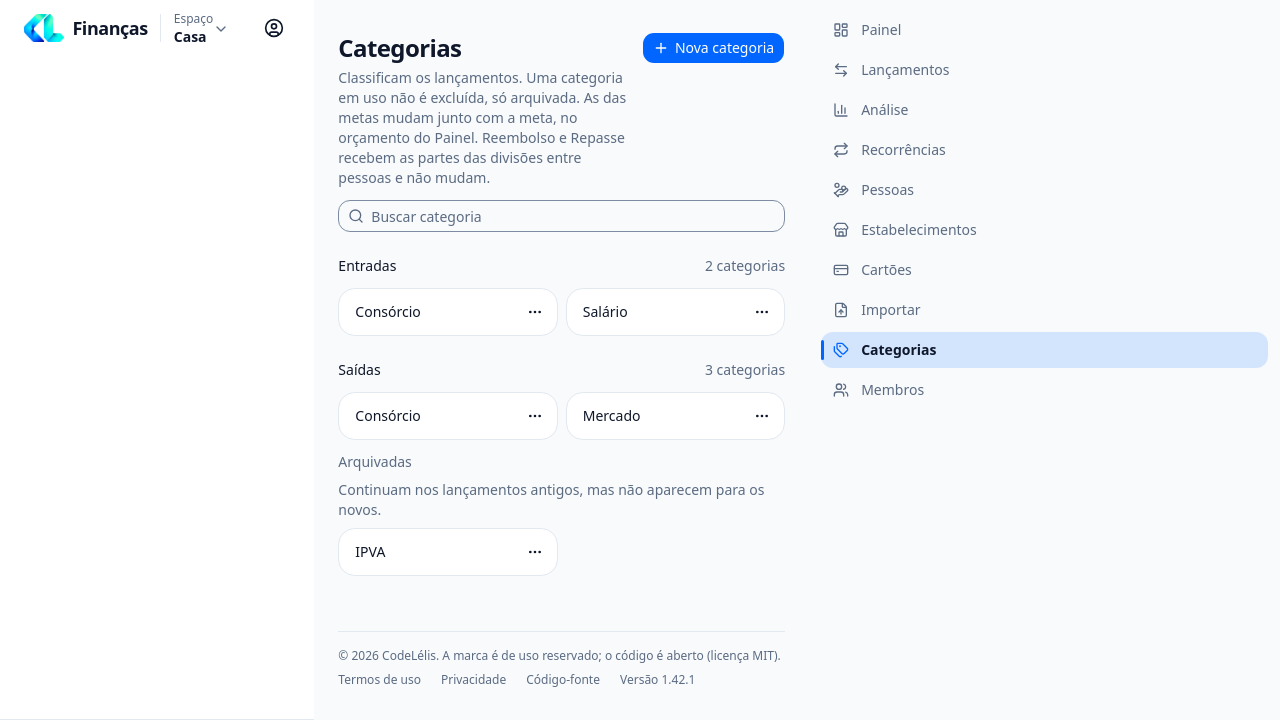
Test: CategoriesPage › renames a category
This screenshot has width=1280, height=720.
Step 1. Click the button named "Ações de Mercado" → click(762, 416), box 748,402 -> 776,430
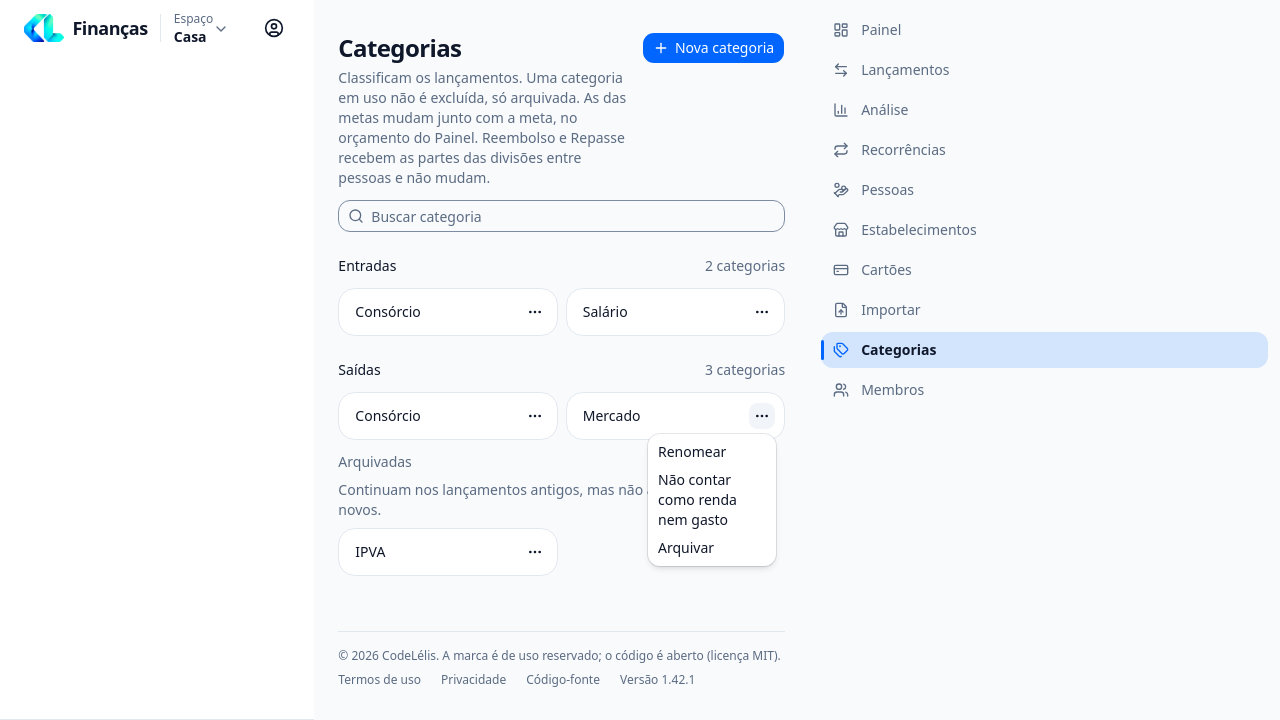
Step 2. Click the menu item "Renomear" → click(692, 452), box 658,442 -> 726,461
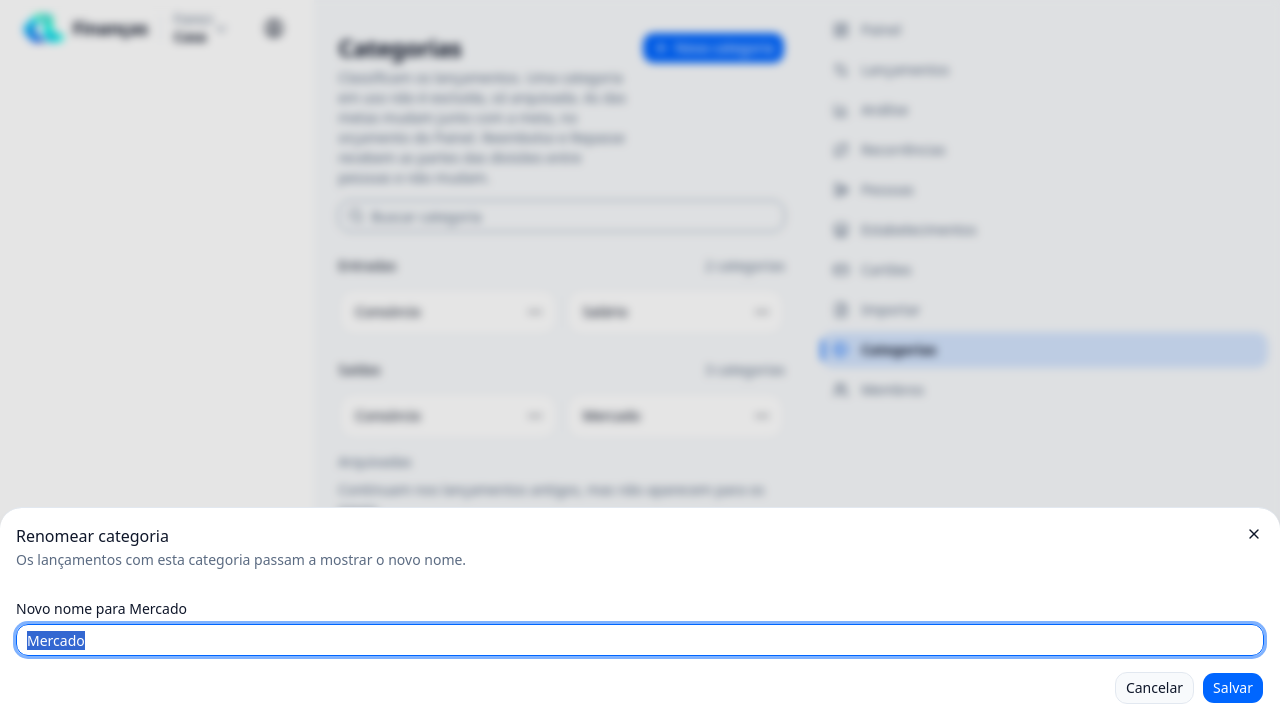
Expected: the field labelled "Novo nome para Mercado" holds "Mercado"
Step 3. Replace the text in the field labelled "Novo nome para Mercado" with "Supermercado" → (640, 640), box 16,624 -> 1264,656
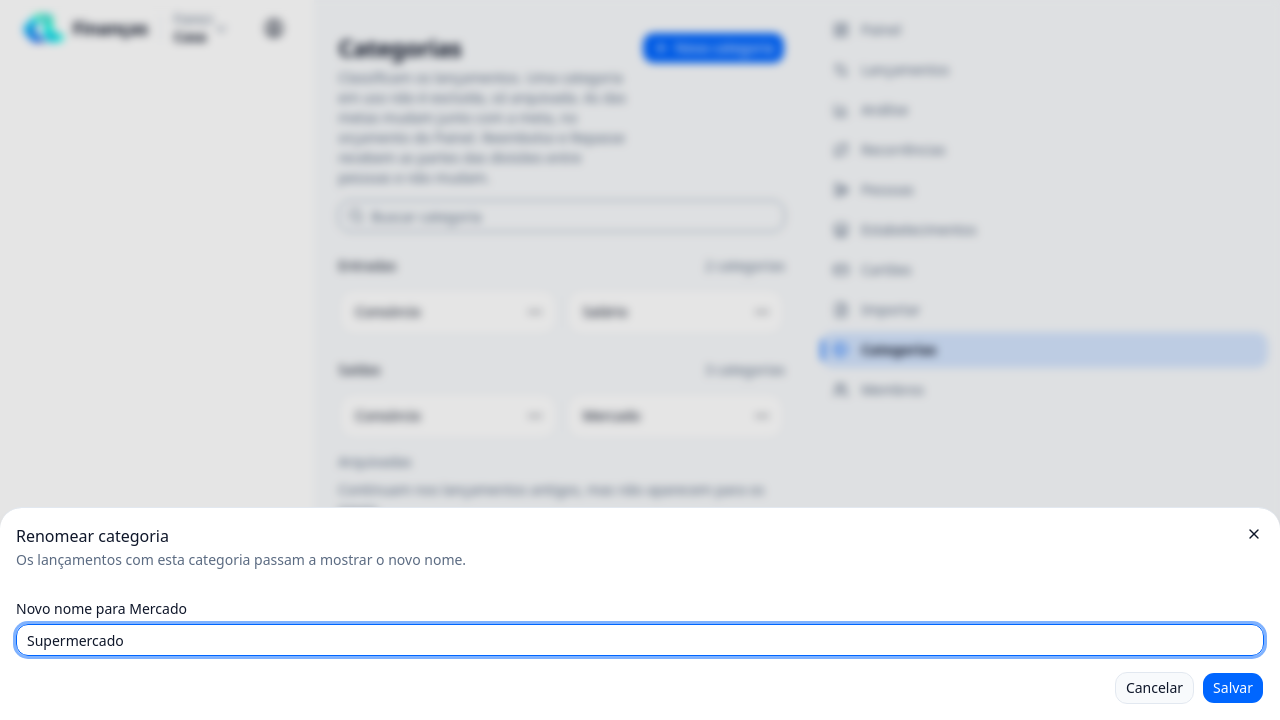
Step 4. Click the button "Salvar" → click(1233, 688), box 1202,672 -> 1264,704
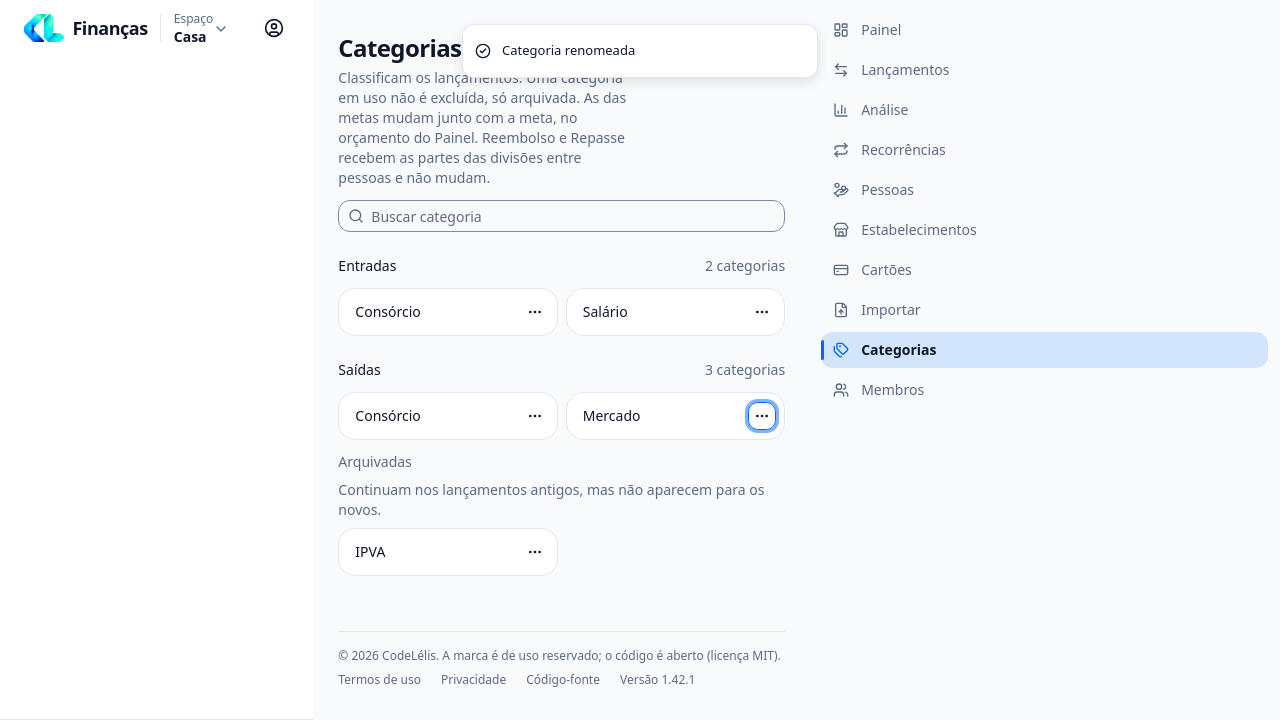
Expected: the text "Categoria renomeada" is shown, 502,41 -> 635,60
Expected: the dialog is gone
